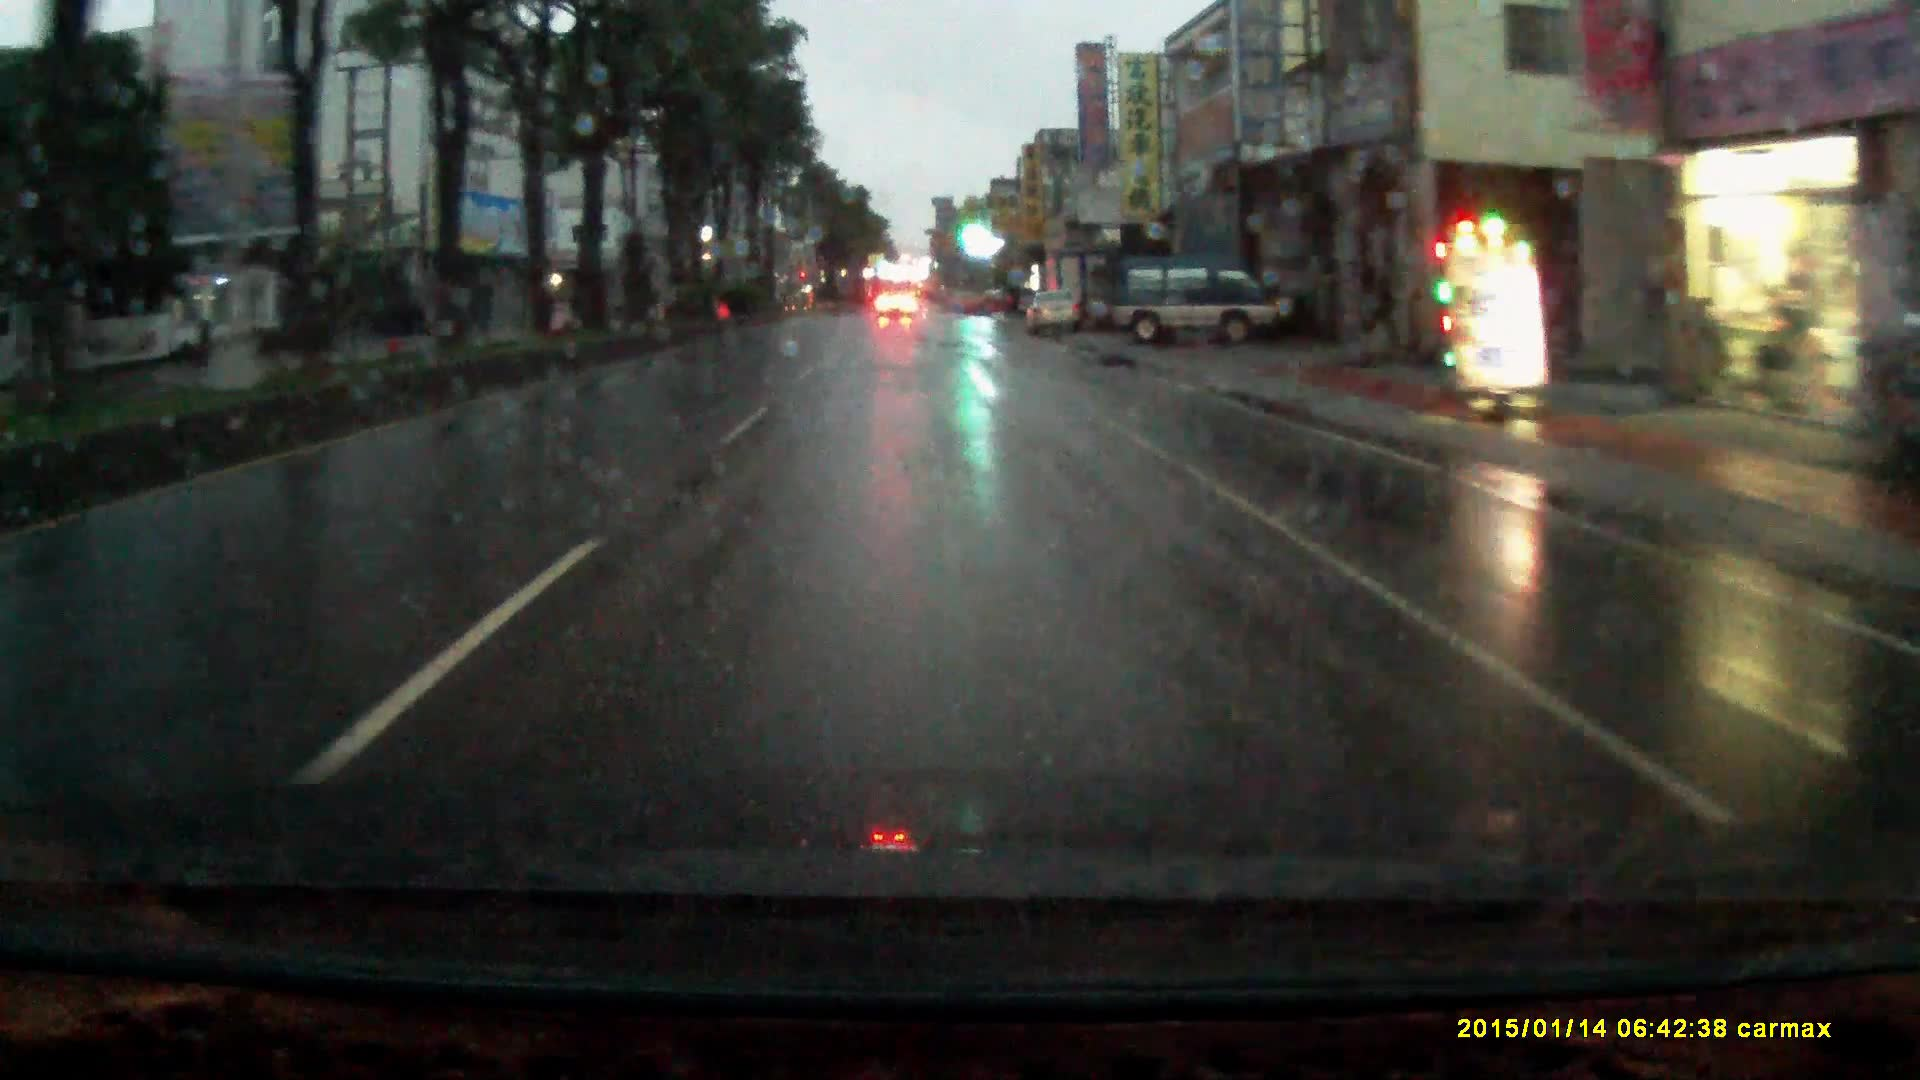vehicle: (1104, 261, 1291, 352), (1040, 248, 1112, 335), (1025, 294, 1085, 339), (876, 295, 916, 324)
